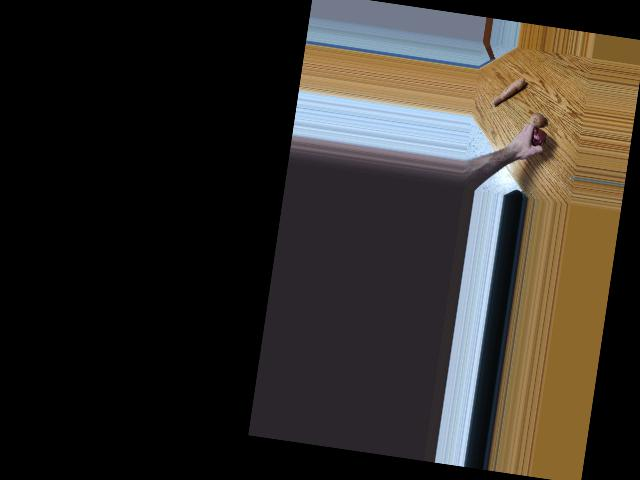onion: (527, 111, 545, 129)
